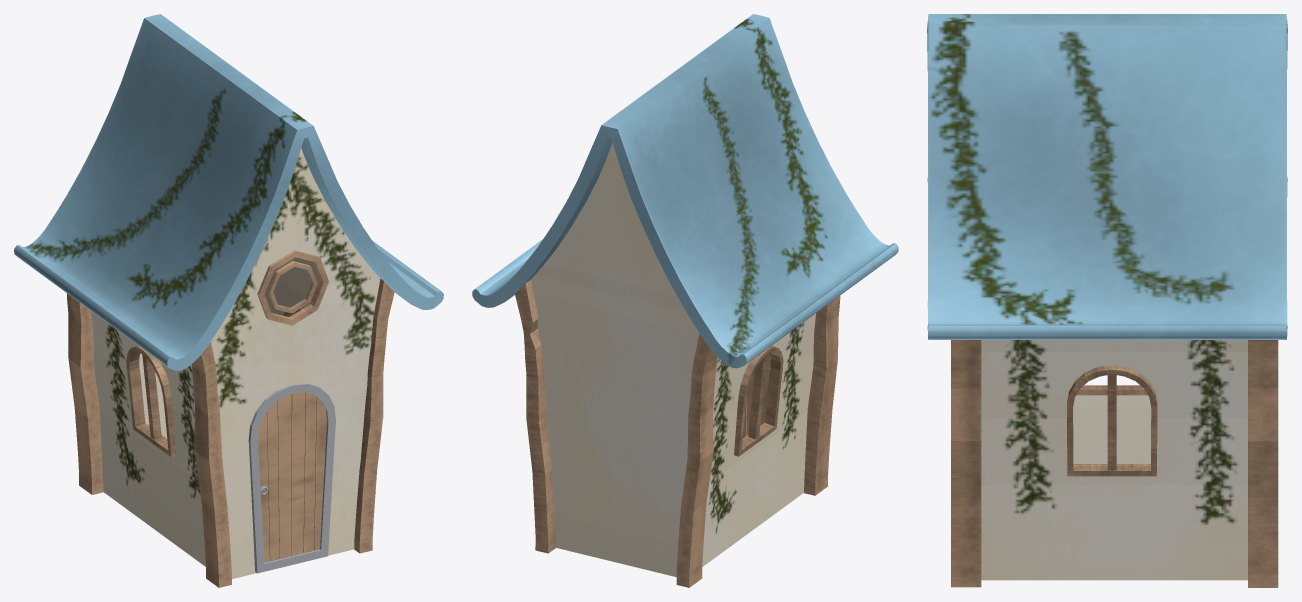
The model's file is hut.fbx.
The picture shows the model from 3 angles, left to right: view 1: azimuth 30°, elevation 25°; view 2: azimuth 150°, elevation 25°; view 3: azimuth 270°, elevation 25°; orthographic projection. The views are drawn at different scales.
Visible parts, largest first — view 1: hut, door; view 2: hut, door; view 3: hut.
Part boxes in pixels (<box>): hut: <box>14,14,443,587</box>; door: <box>258,392,326,562</box>; hut: <box>472,14,898,587</box>; door: <box>742,353,770,438</box>; hut: <box>927,14,1287,587</box>.
Bounding box in the file's own units: 471 × 729 × 454.
1 material, 1 textured.
